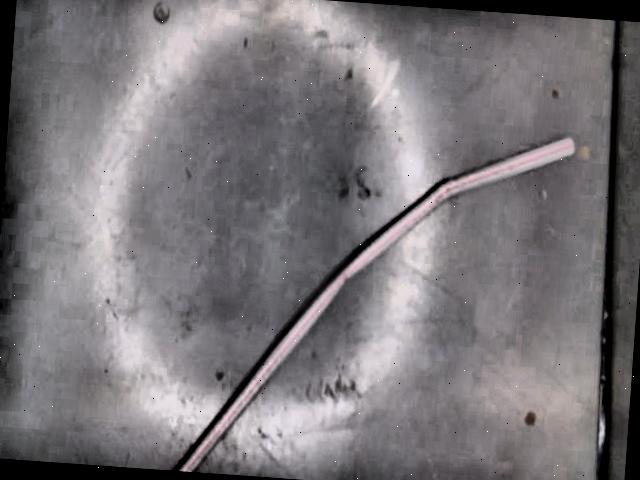Plastic: (172, 131, 577, 469)
